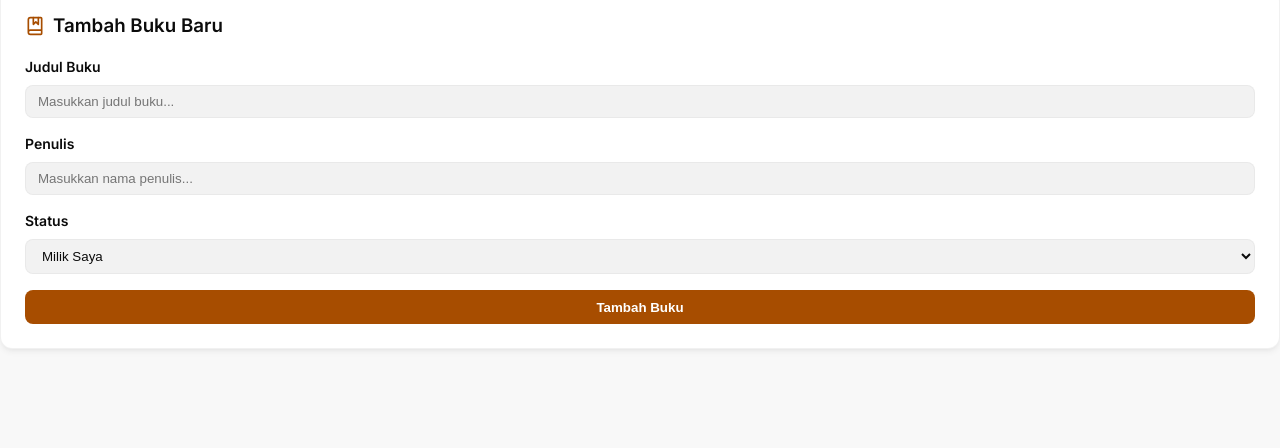
it: BookForm Component › 1. shows validation errors if fields are empty on submit
// Klik tombol submit
Click the button "Tambah Buku": x=640, y=307 [25, 290, 1255, 324]
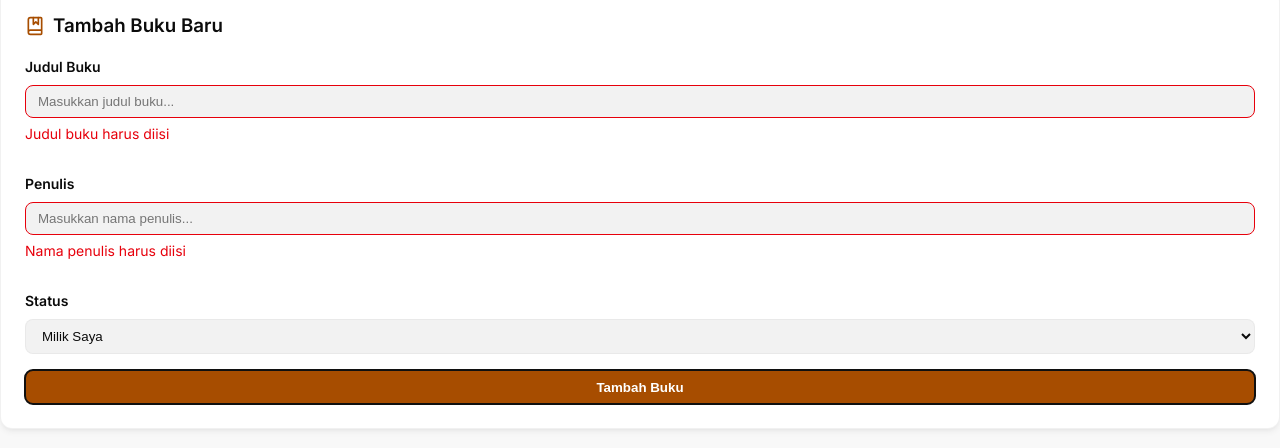
Result: the text "Judul buku harus diisi" is shown at [25, 125, 169, 142]
Result: the text "Nama penulis harus diisi" is shown at [25, 242, 186, 259]
